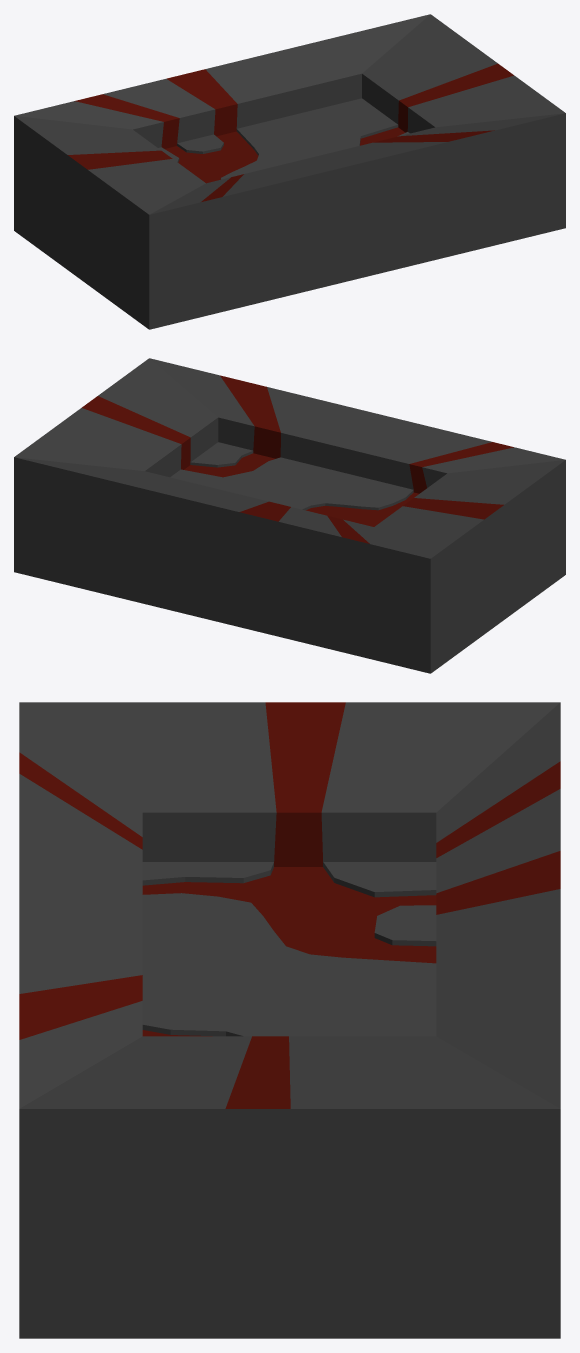
The model's file is ExportedBlenderFBXFile.fbx.
3 renders of one model, top to bottom at view 1: azimuth 30°, elevation 25°; view 2: azimuth 150°, elevation 25°; view 3: azimuth 270°, elevation 25°, orthographic. The views are drawn at different scales.
Parts seen in each view (by area): view 1: Cube; view 2: Cube; view 3: Cube.
Part boxes in pixels (box(x1,y1,x2,y2)): Cube: box(14, 14, 565, 329); Cube: box(14, 358, 565, 673); Cube: box(19, 702, 560, 1338).
Size of the model in its own units: 125 by 32.91 by 70.22.
